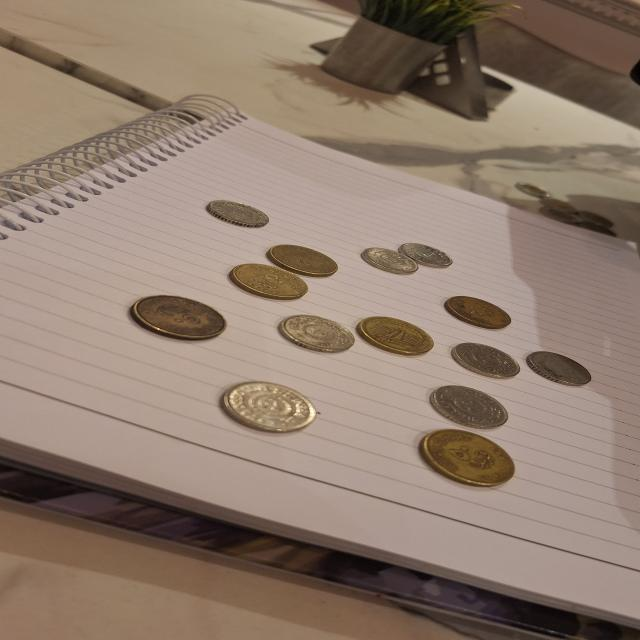Half Pound: (414, 427, 523, 488), (126, 292, 232, 344), (354, 314, 437, 360), (228, 262, 314, 302), (263, 241, 347, 280), (440, 293, 522, 331)
quarter pound: (215, 380, 322, 435), (426, 382, 517, 432), (276, 313, 358, 357), (448, 339, 524, 382), (522, 350, 602, 389), (202, 195, 272, 230), (354, 246, 421, 276), (398, 237, 458, 270)
